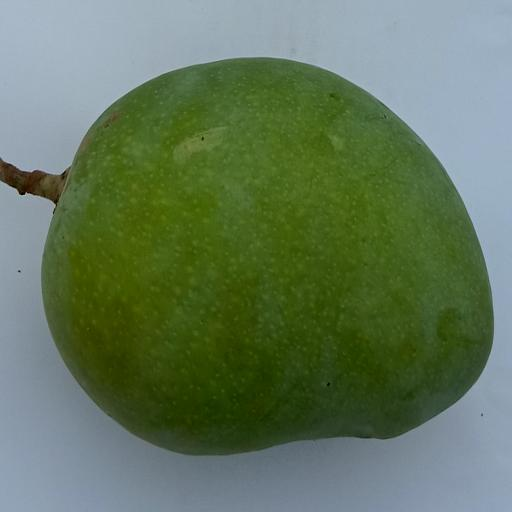mango-unripe: (0, 21, 509, 470)
